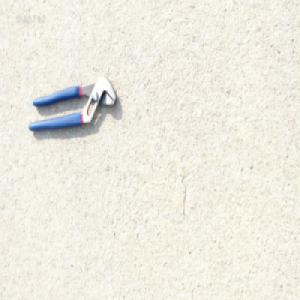Pliers: (27, 74, 117, 134)
